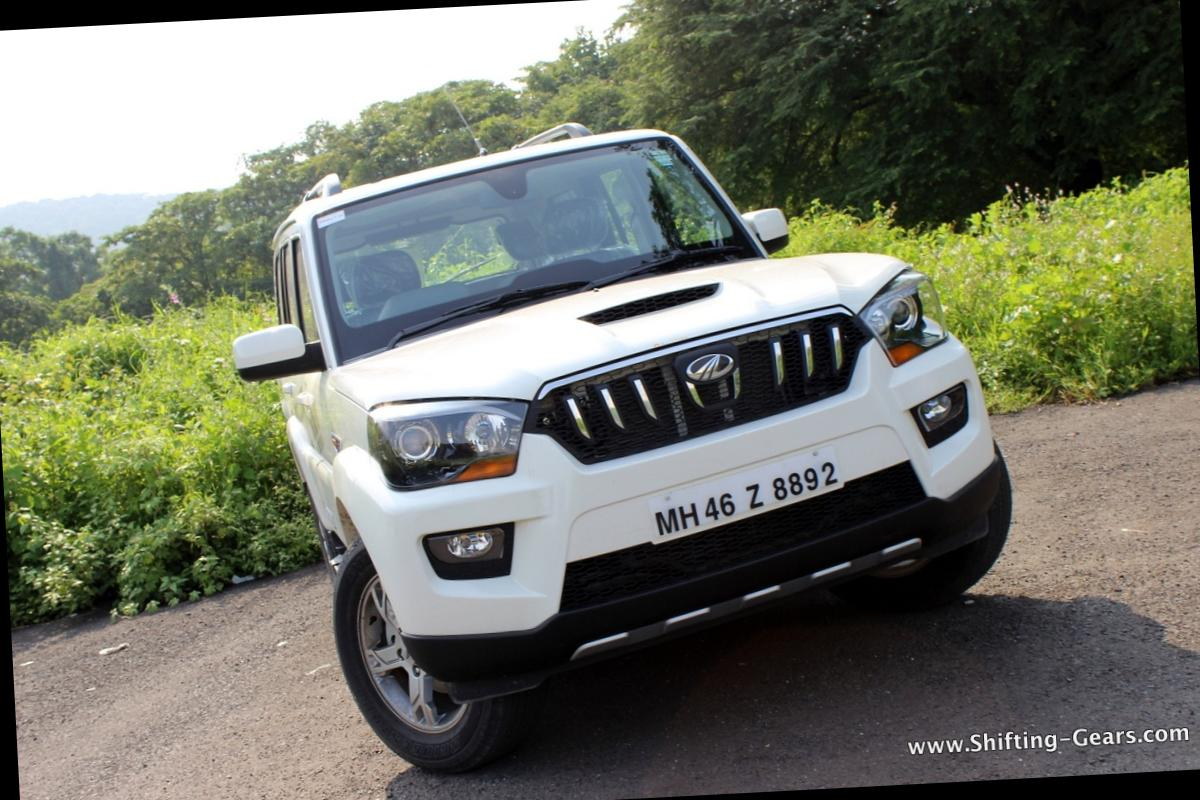plate: (599, 448, 893, 530)
